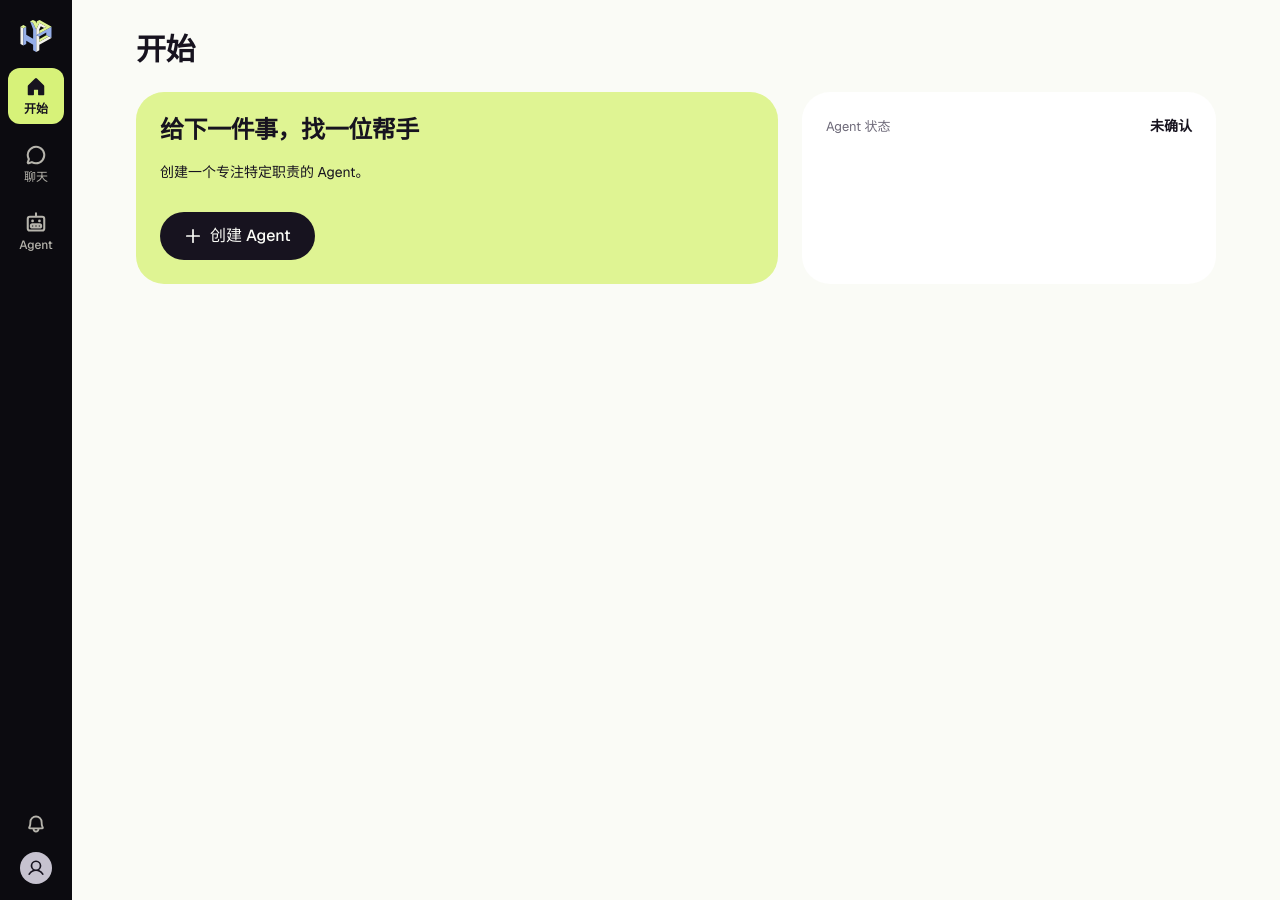
Scenario: agents directory (read-side wiring) › renders the loaded list grouped by owner with honest run-state badges
The image size is (1280, 900).
Click the button "Agent" at (36, 232), box top-left (8, 204), bottom-right (64, 260)
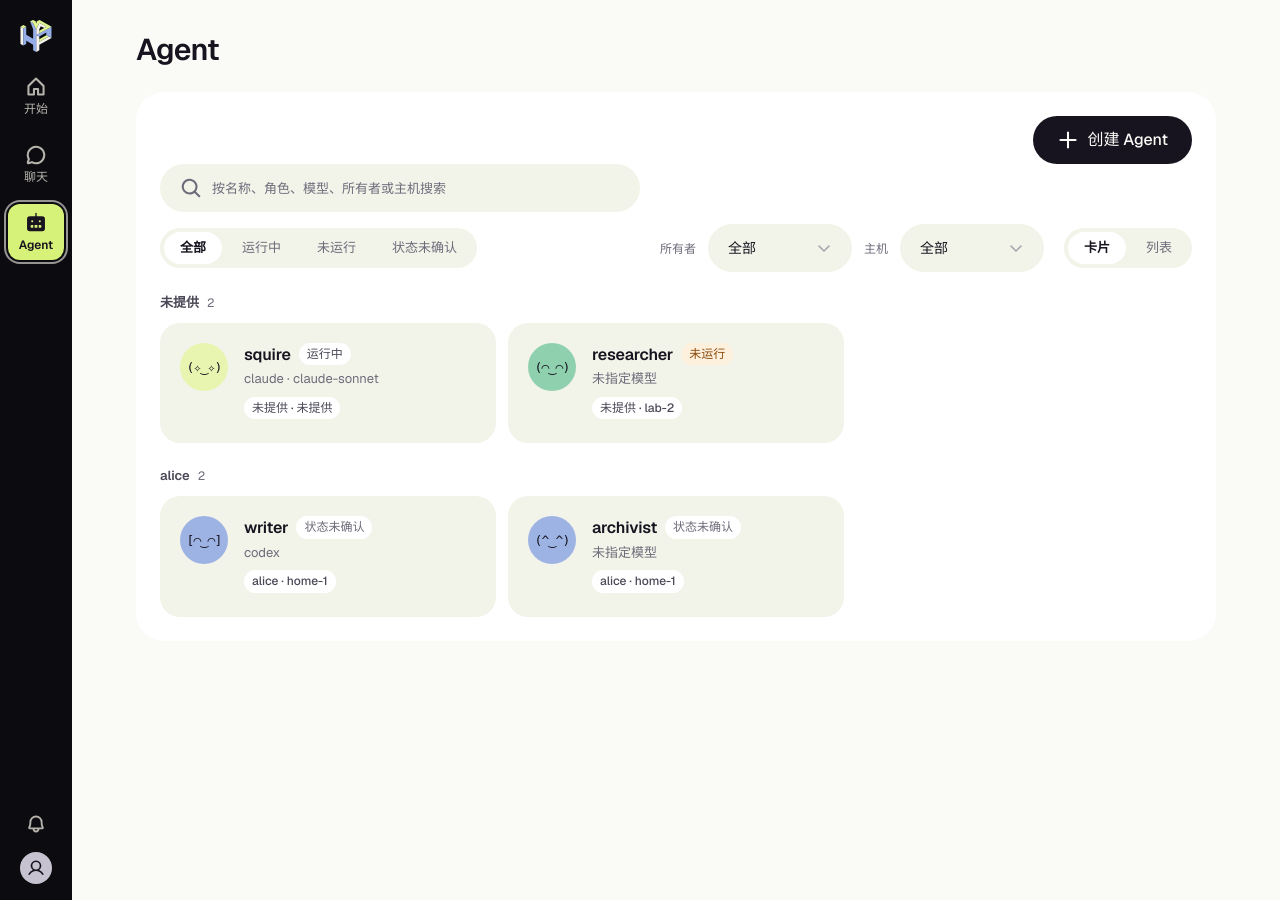
Check: the button with test id "contact-squire" is shown, box top-left (160, 323), bottom-right (496, 443)
Check: the button with test id "contact-researcher" is shown, box top-left (508, 323), bottom-right (844, 443)
Check: the button with test id "contact-writer" is shown, box top-left (160, 496), bottom-right (496, 617)
